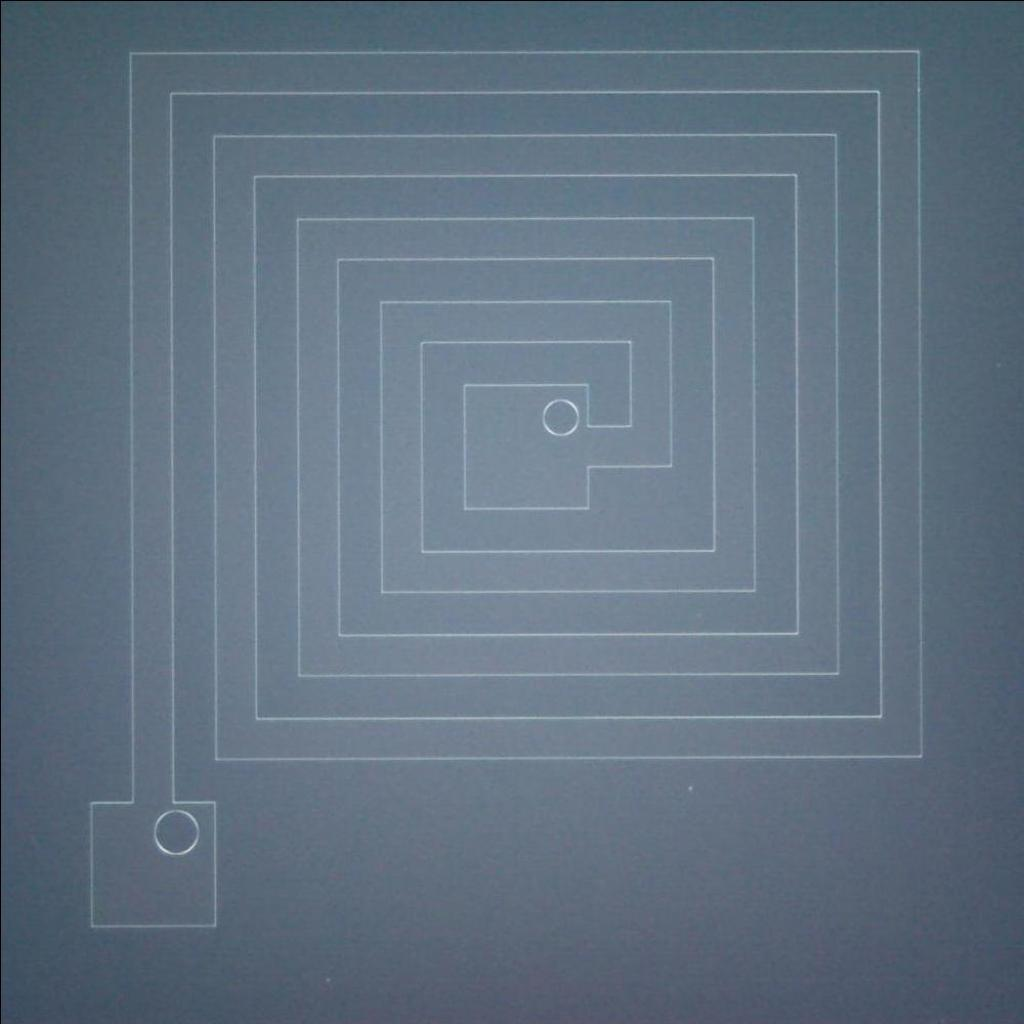circle: (152, 808, 200, 856), (541, 396, 582, 440)
